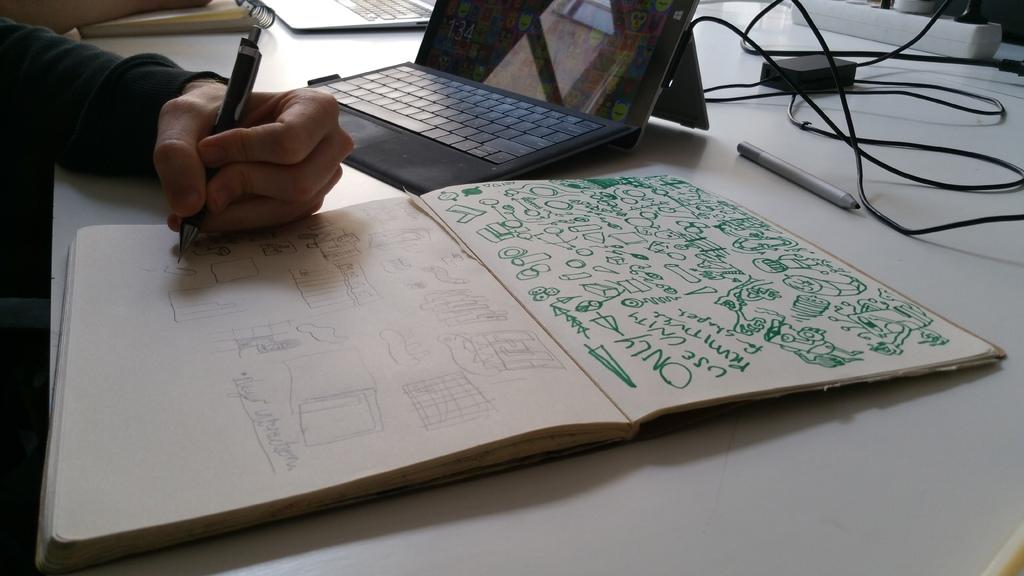pen: (172, 27, 265, 259)
